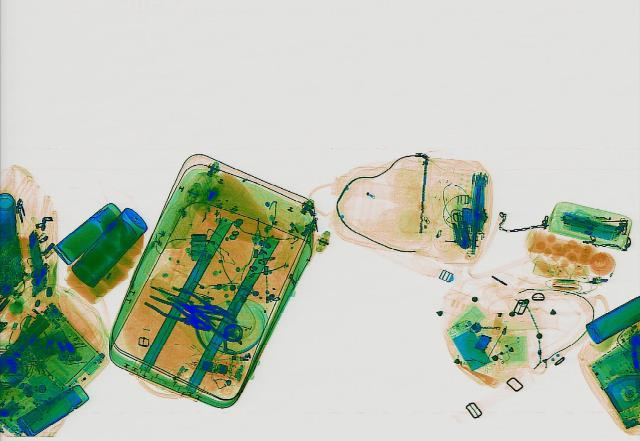Pliers: (136, 291, 218, 335), (162, 284, 236, 322)
